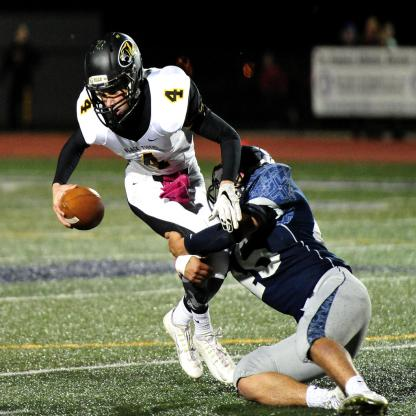Helmet: (81, 30, 144, 122), (206, 148, 276, 212)
